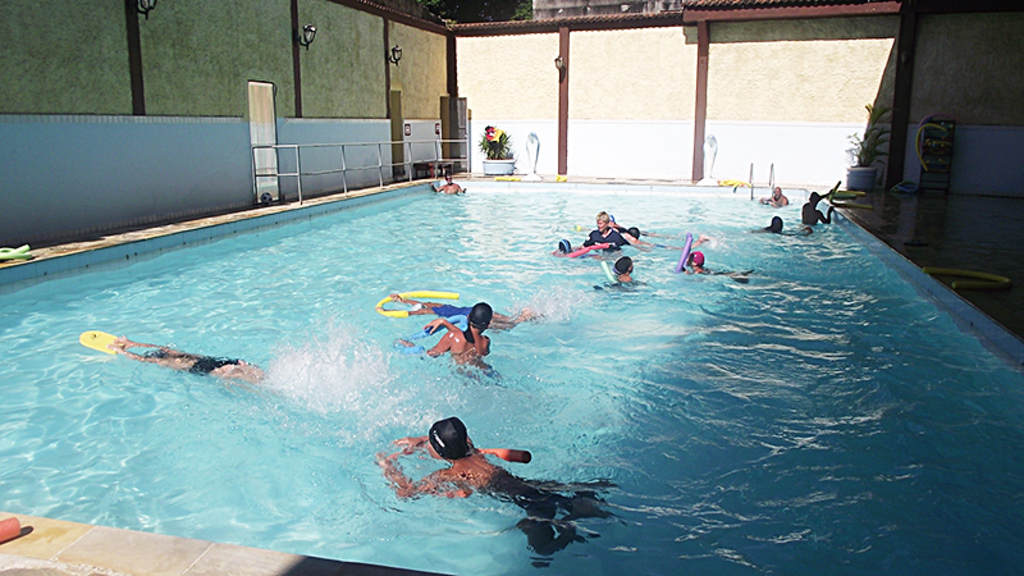Person: (377, 408, 622, 566), (391, 305, 500, 394), (378, 292, 542, 334), (109, 337, 264, 378), (550, 208, 636, 261), (585, 252, 653, 292), (680, 250, 759, 282), (800, 188, 835, 234), (745, 212, 815, 234), (430, 172, 470, 192), (763, 183, 787, 207)
